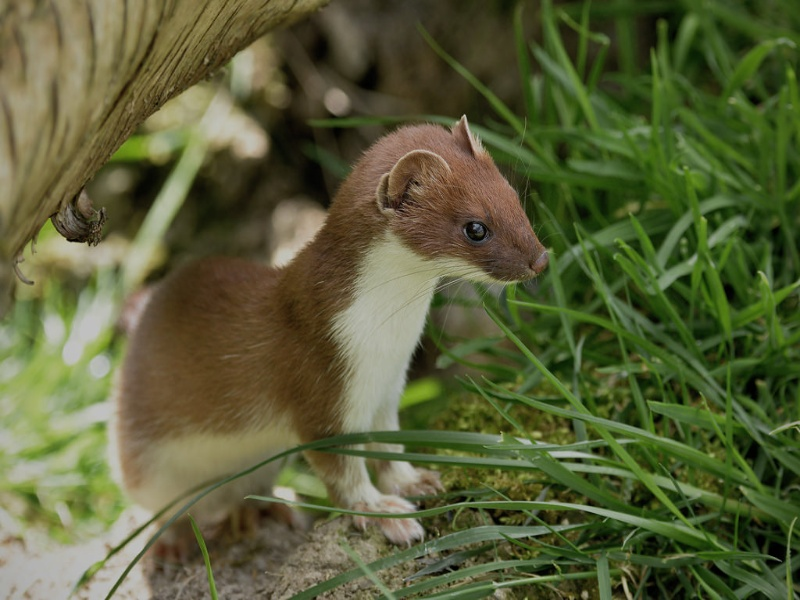minkish: (108, 108, 562, 586)
